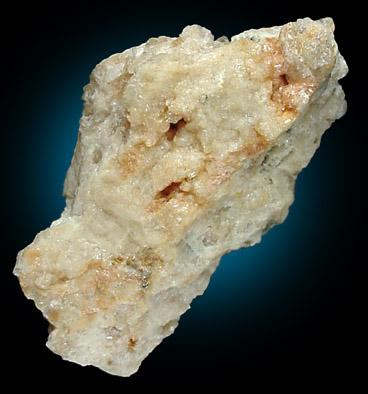prehnite: (13, 18, 349, 379)
